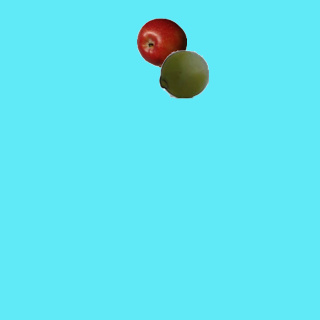Apple Braeburn: (136, 17, 186, 67)
Grape White 4: (158, 48, 208, 98)
